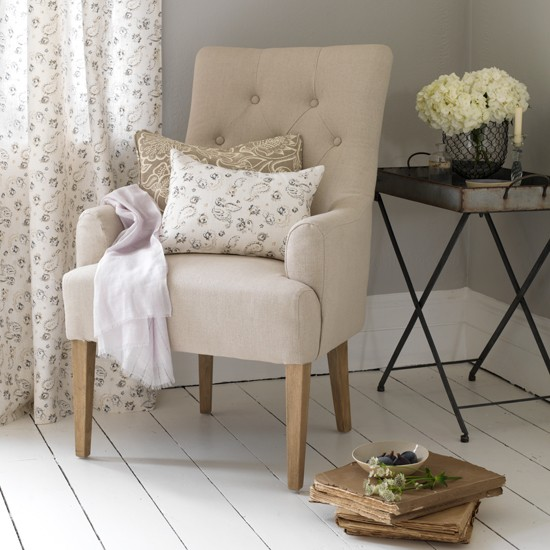chairs: (64, 34, 396, 492)
